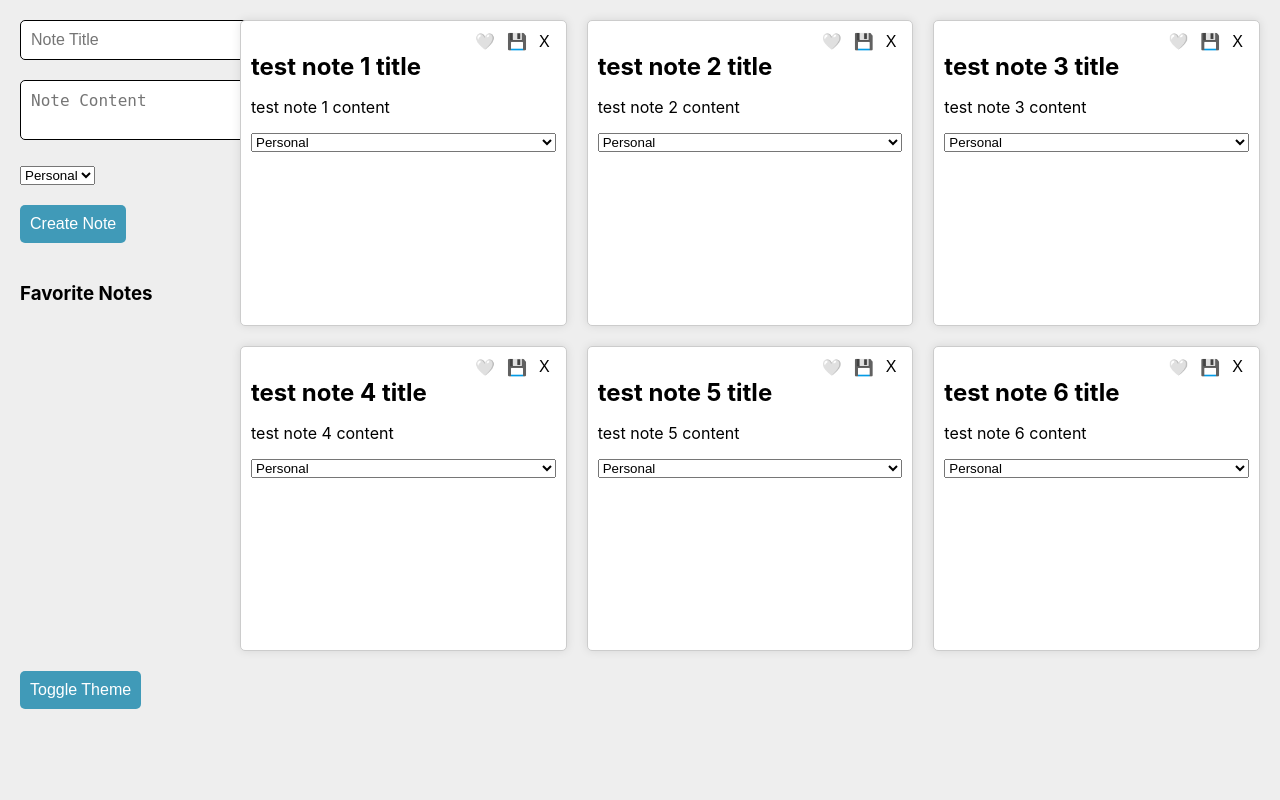
Test: extras › delete all
Click the 1st button "X" at (544, 42), box [533,31,556,52]
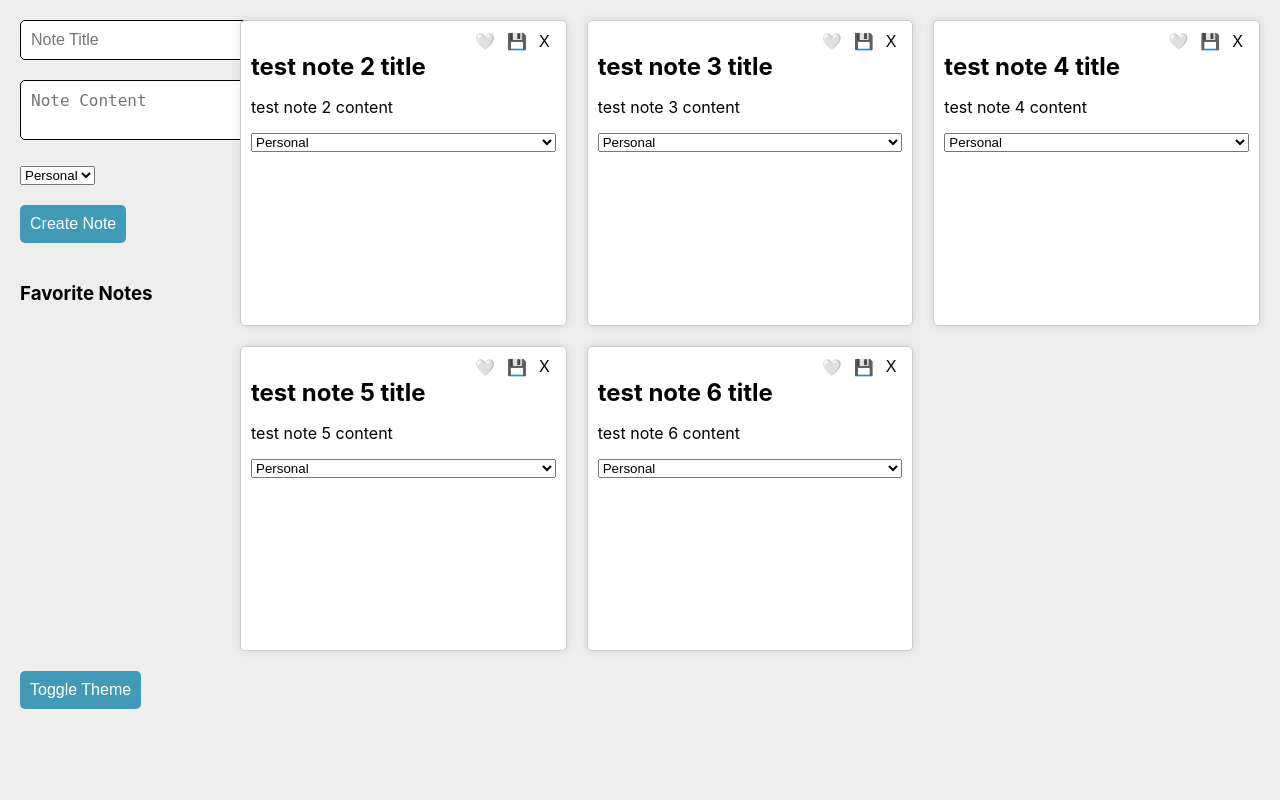
Expected: the heading "test note 1 title" is gone
Click the 1st button "X" at (544, 42), box [533,31,556,52]
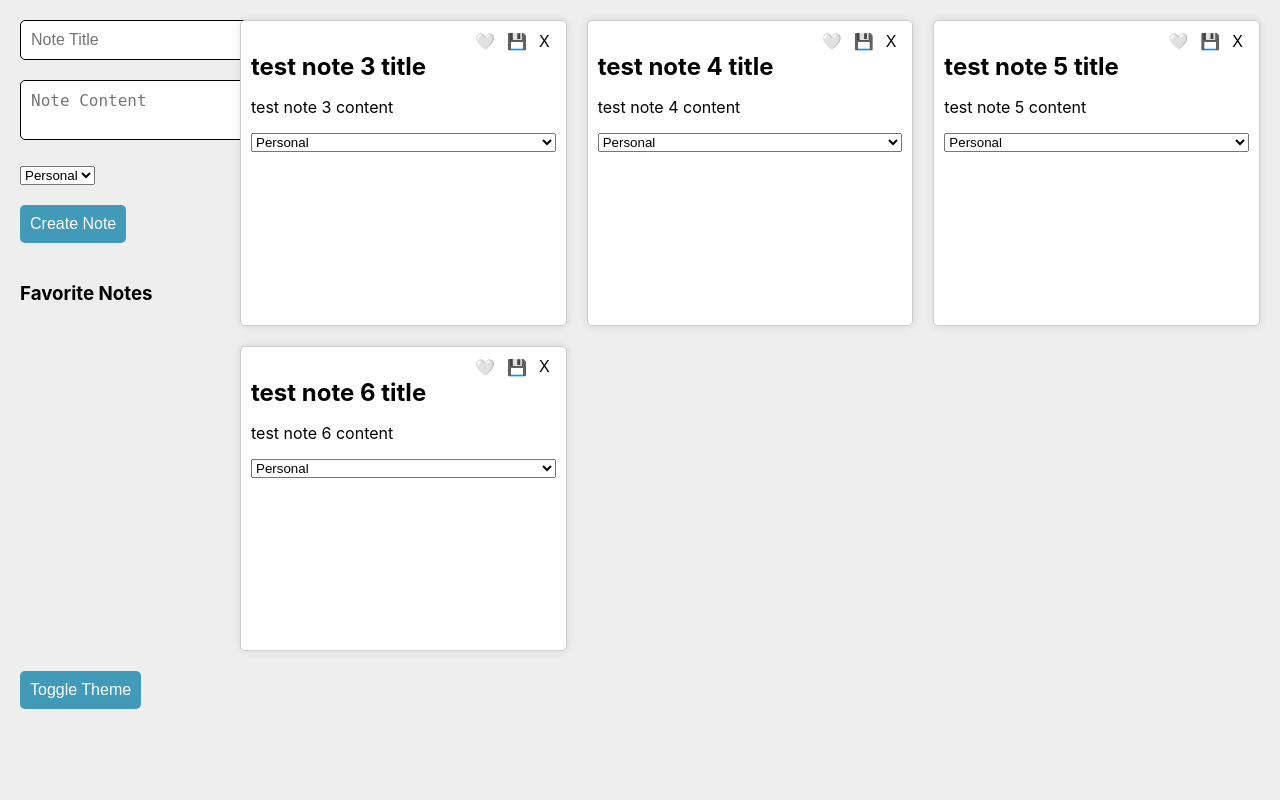
Expected: the heading "test note 2 title" is gone
Click the 1st button "X" at (544, 42), box [533,31,556,52]
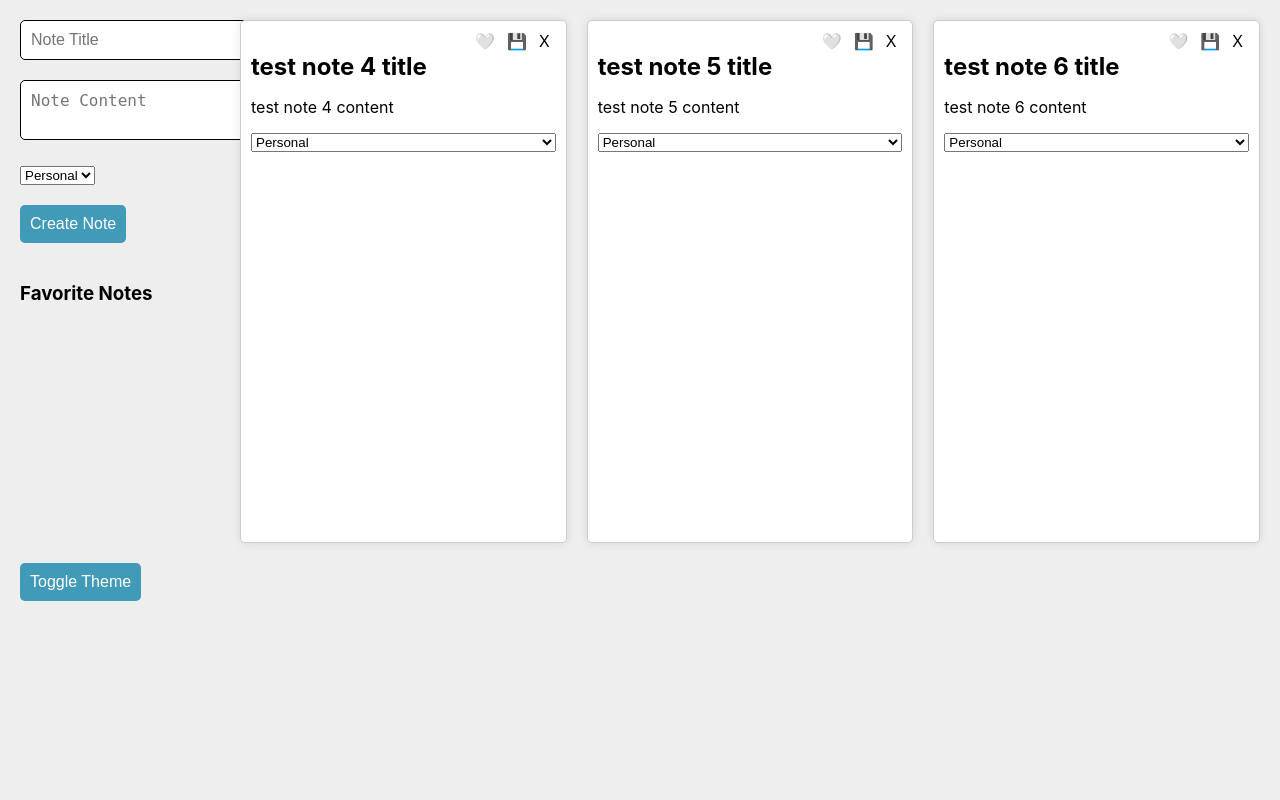
Expected: the heading "test note 3 title" is gone
Click the 1st button "X" at (544, 42), box [533,31,556,52]
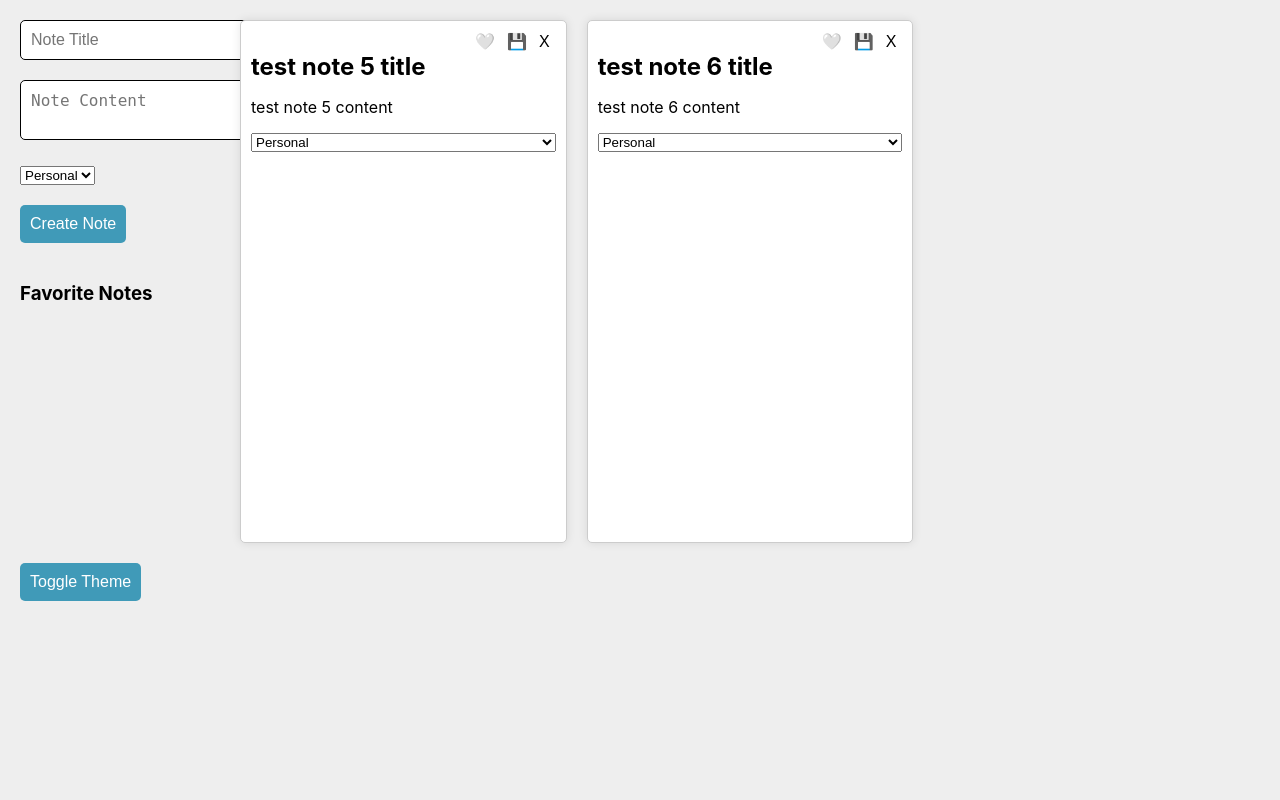
Expected: the heading "test note 4 title" is gone
Click the 1st button "X" at (544, 42), box [533,31,556,52]
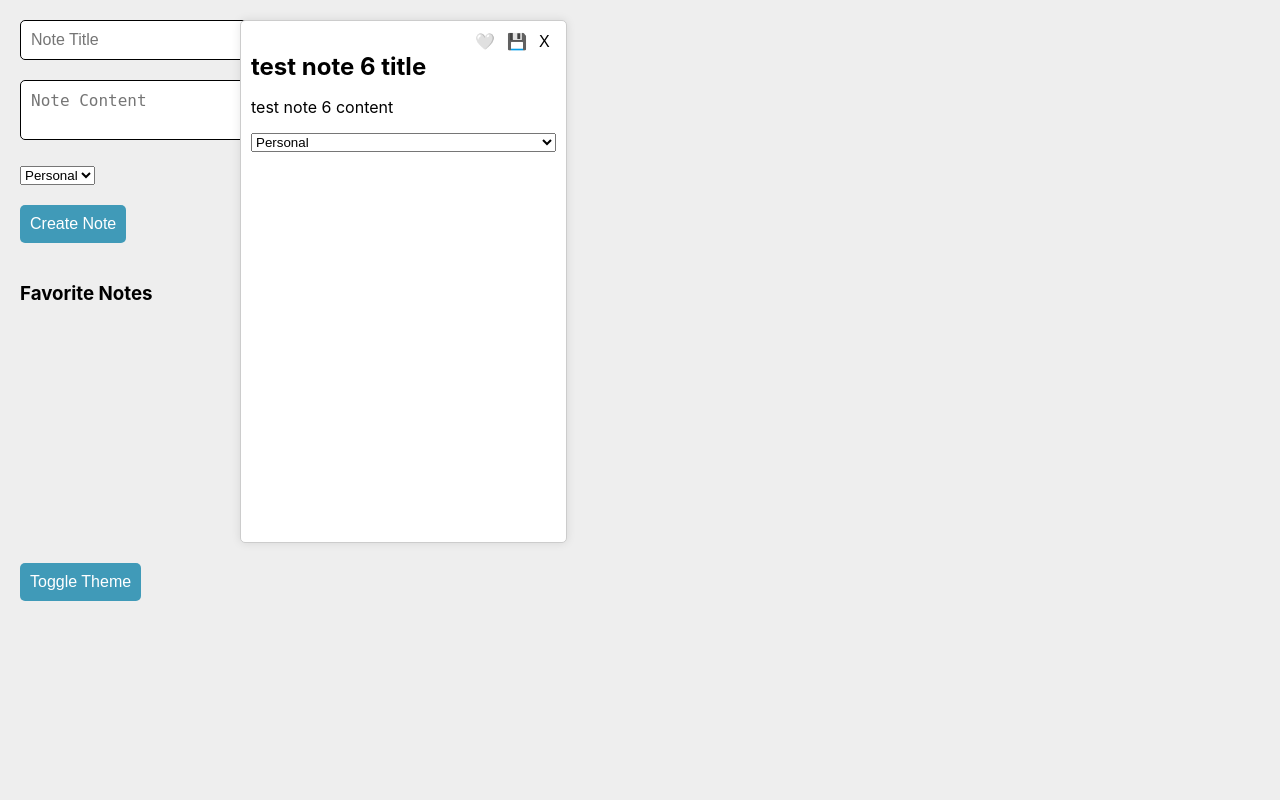
Expected: the heading "test note 5 title" is gone
Click the button "X" at (544, 42), box [533,31,556,52]
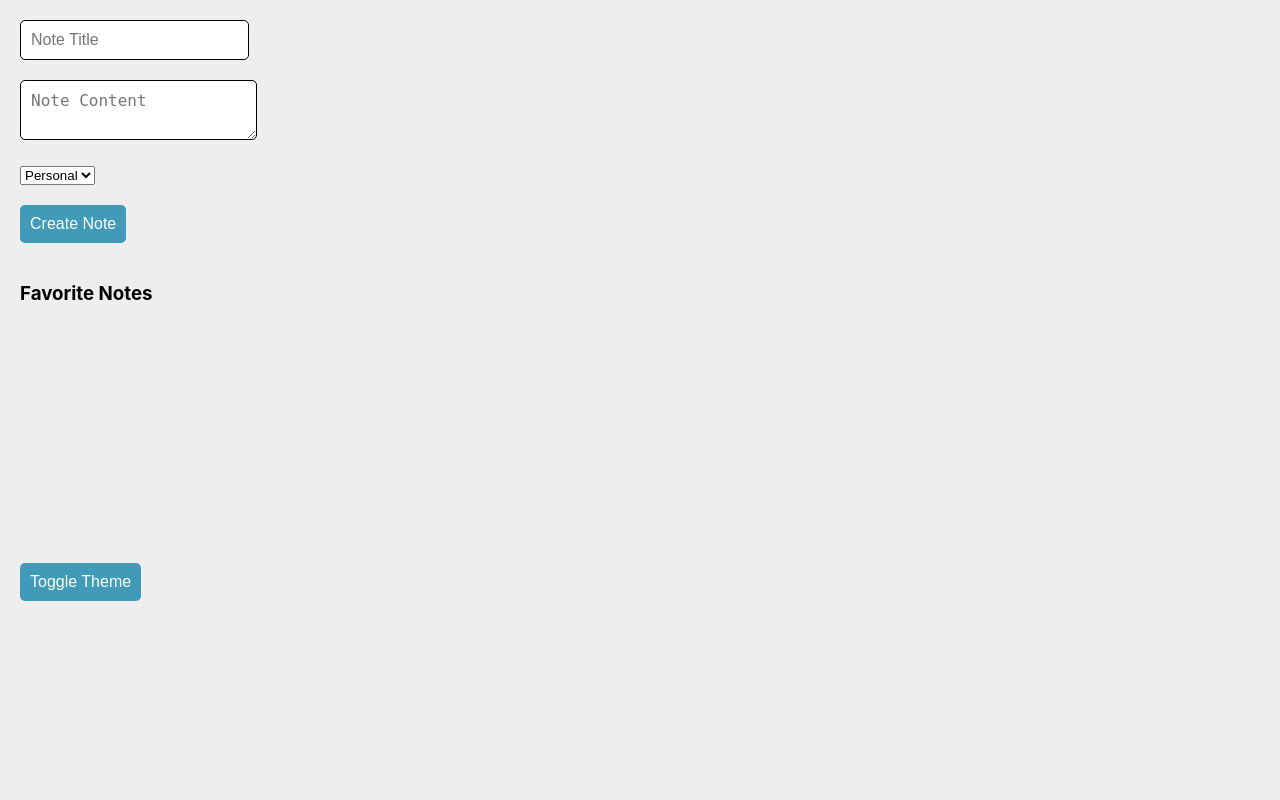
Expected: the heading "test note 6 title" is gone
